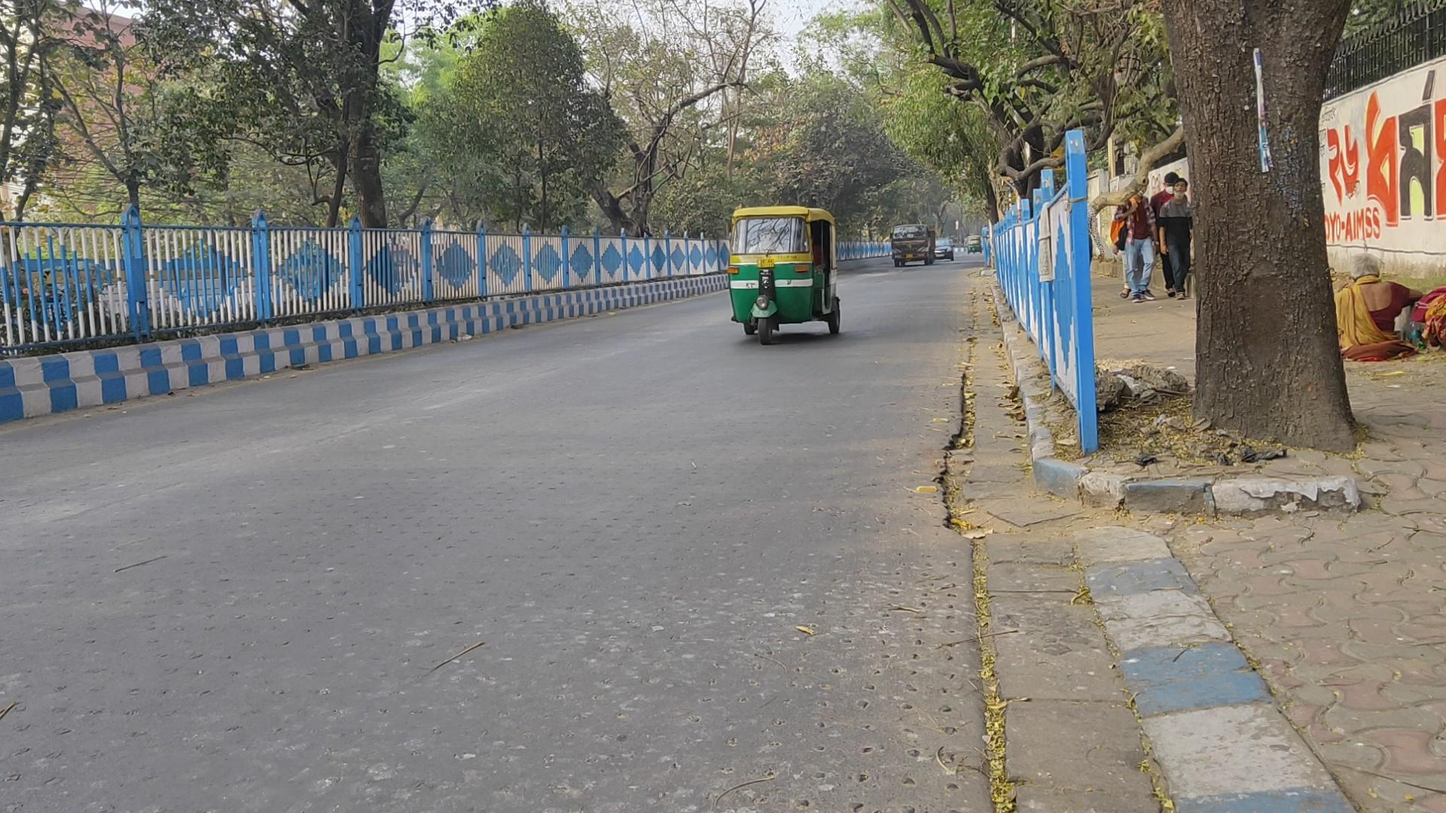Auto: (728, 205, 842, 346), (967, 234, 982, 255)
car: (933, 237, 955, 260)
truck: (890, 224, 936, 267)
